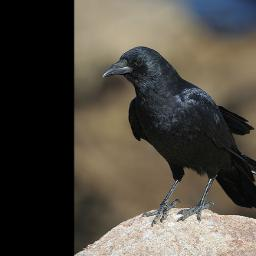Crow: (99, 45, 256, 228)
